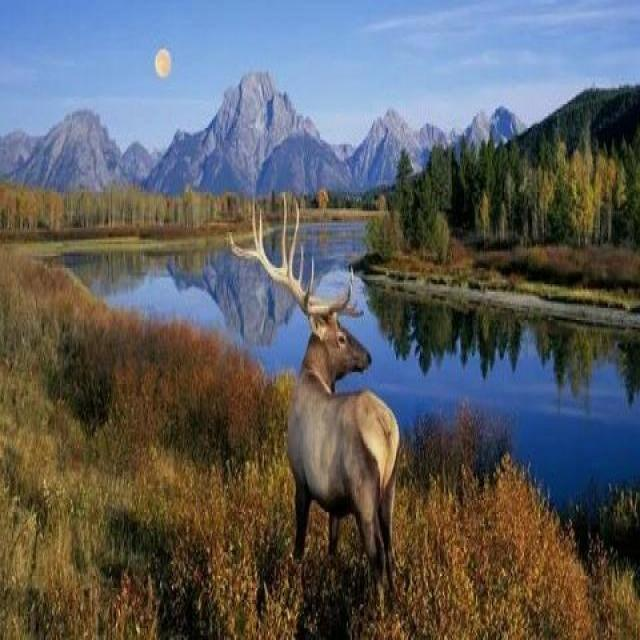deer: (209, 177, 410, 562)
